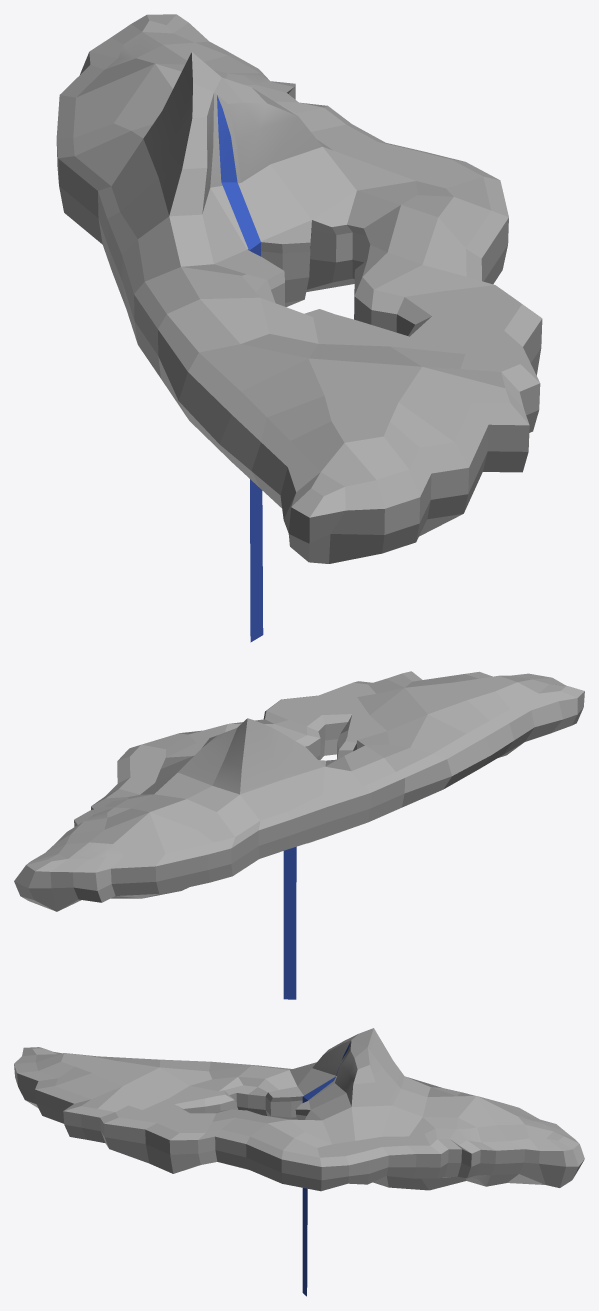
Rendered from ilhasflutuantes_ilhaflorestal.fbx.
3 views of the same model, one above another, from view 1: azimuth 30°, elevation 25°; view 2: azimuth 150°, elevation 25°; view 3: azimuth 270°, elevation 25° (orthographic). The views are drawn at different scales.
Visible parts, largest first — view 1: ilha_florestal; view 2: ilha_florestal; view 3: ilha_florestal.
Boxes of the visible parts, x1,y1,x2,y2 form: ilha_florestal: (56, 14, 542, 642); ilha_florestal: (14, 671, 584, 999); ilha_florestal: (14, 1028, 584, 1296).
Size of the model in its own units: 0.1632 by 0.1695 by 0.3275.
